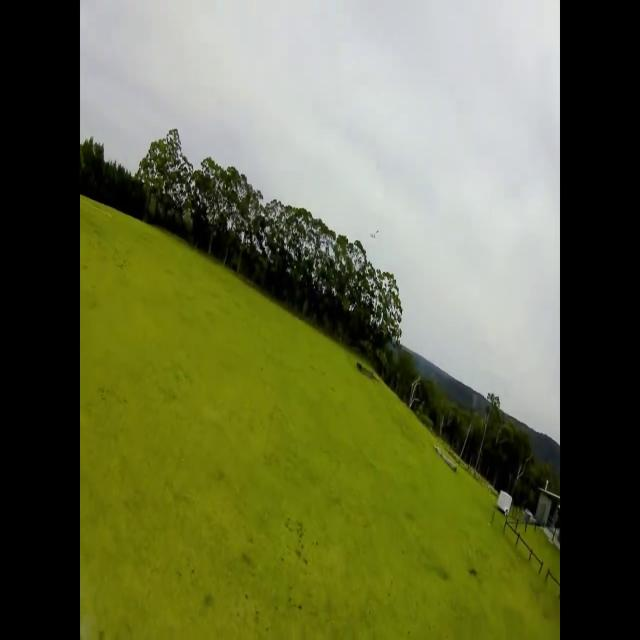iha: (372, 228, 378, 244)
